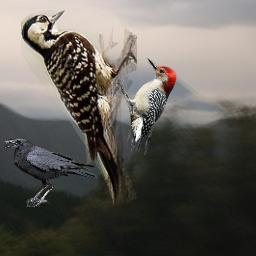Crow: (4, 138, 97, 207)
Woodpecker: (21, 10, 137, 206), (112, 56, 179, 155)
